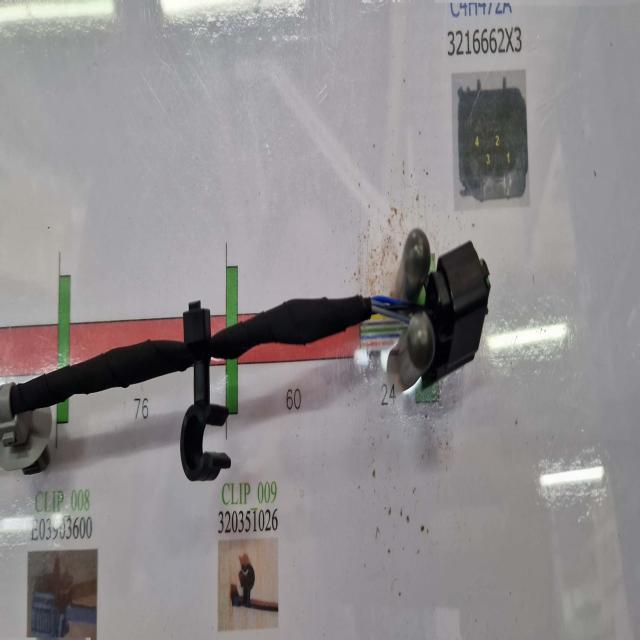Clip: (180, 302, 231, 483), (2, 385, 51, 475)
Connector: (423, 240, 492, 389)
Gape: (360, 272, 434, 367)
MHEV_N11_Cable: (10, 343, 191, 419), (206, 294, 371, 360)
